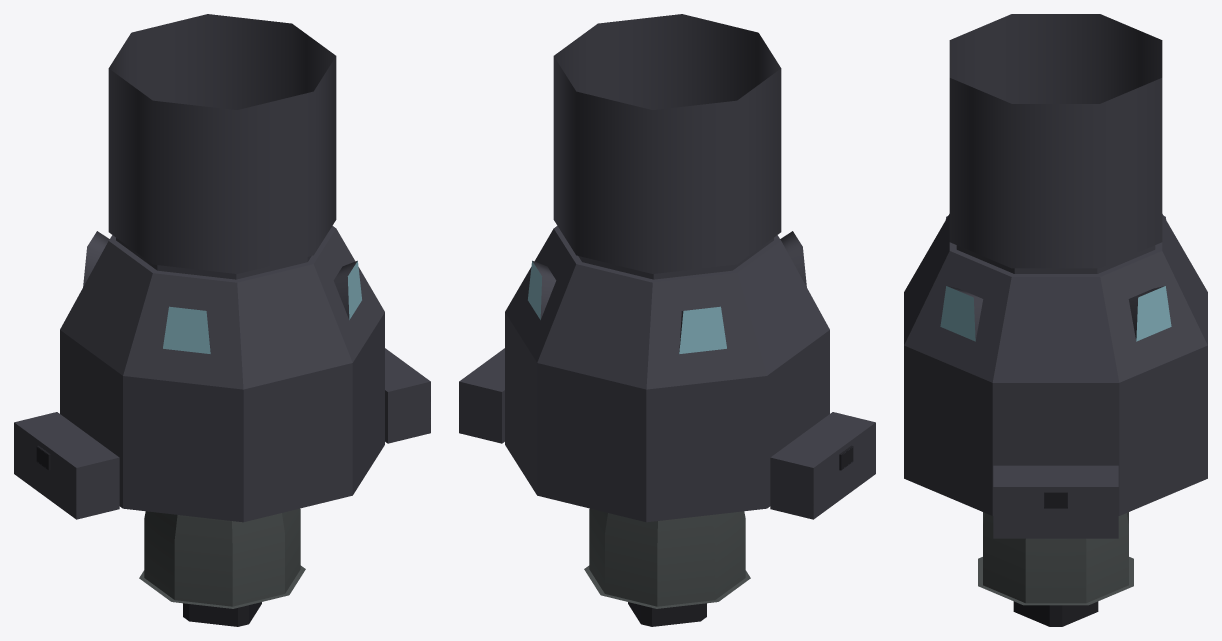
Rendered from PlantaMineraFinal.fbx.
The picture shows the model from 3 angles, left to right: view 1: azimuth 30°, elevation 25°; view 2: azimuth 150°, elevation 25°; view 3: azimuth 270°, elevation 25°; orthographic projection.
Parts seen in each view (by area): view 1: Muro, Muro.002, Caida, MurallaSpawn, Muro.001, Extractor, KillZone; view 2: Muro, Muro.002, Caida, MurallaSpawn, Muro.001, Extractor, KillZone; view 3: Muro, Muro.002, Caida, MurallaSpawn, Muro.001, Extractor, KillZone.
Part boxes in pixels (x1,y1,x2,y2): Muro: (60, 228, 384, 522); Muro.002: (108, 14, 336, 273); Caida: (144, 508, 300, 606); MurallaSpawn: (14, 348, 430, 519); Muro.001: (109, 226, 335, 282); Extractor: (183, 602, 261, 626); KillZone: (139, 565, 305, 608); Muro: (505, 228, 829, 522); Muro.002: (553, 14, 781, 273); Caida: (589, 508, 745, 606); MurallaSpawn: (459, 348, 875, 519); Muro.001: (554, 226, 780, 282); Extractor: (628, 602, 706, 626); KillZone: (584, 565, 750, 608); Muro: (904, 214, 1207, 515); Muro.002: (949, 14, 1162, 268); Caida: (983, 512, 1128, 603); MurallaSpawn: (992, 464, 1119, 538); Muro.001: (949, 242, 1162, 276); Extractor: (1013, 601, 1098, 626); KillZone: (978, 557, 1133, 605).
Bounding box in the file's own units: 7207 × 10500 × 5253.
Materials: 4 (4 with a texture image).
